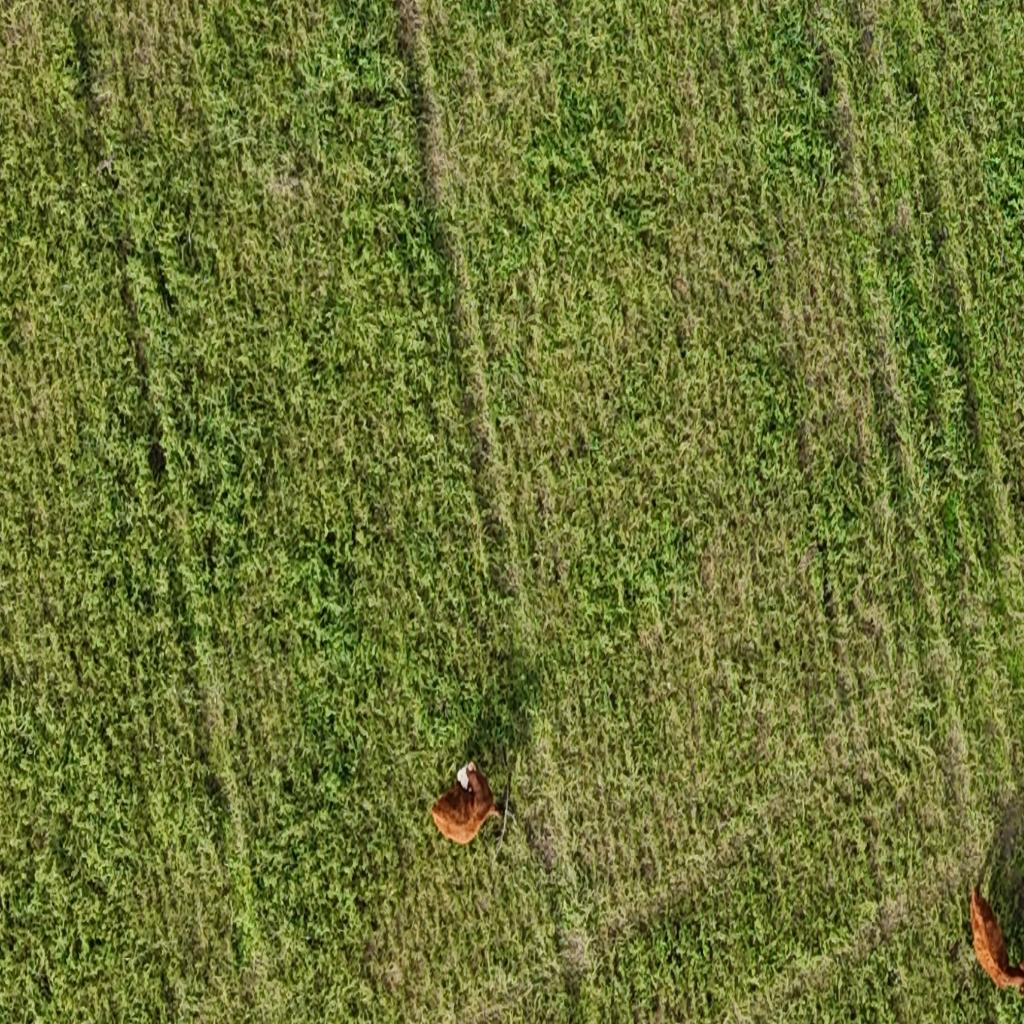cow: (428, 752, 509, 849), (964, 876, 1024, 999)
